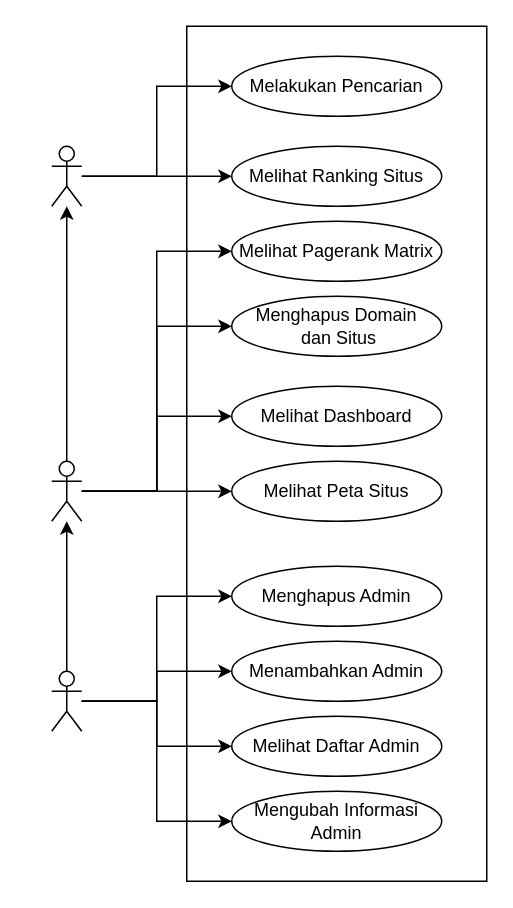
This 513x908 diagram has some shape labels left out. The shapes that lost their labels are listed below. From the top down, each one's box as (x1, y1, x2, y2) in pixels, then its label:
(50, 145, 82, 206): Pengguna
(50, 460, 82, 521): Admin
(50, 670, 82, 731): Root
